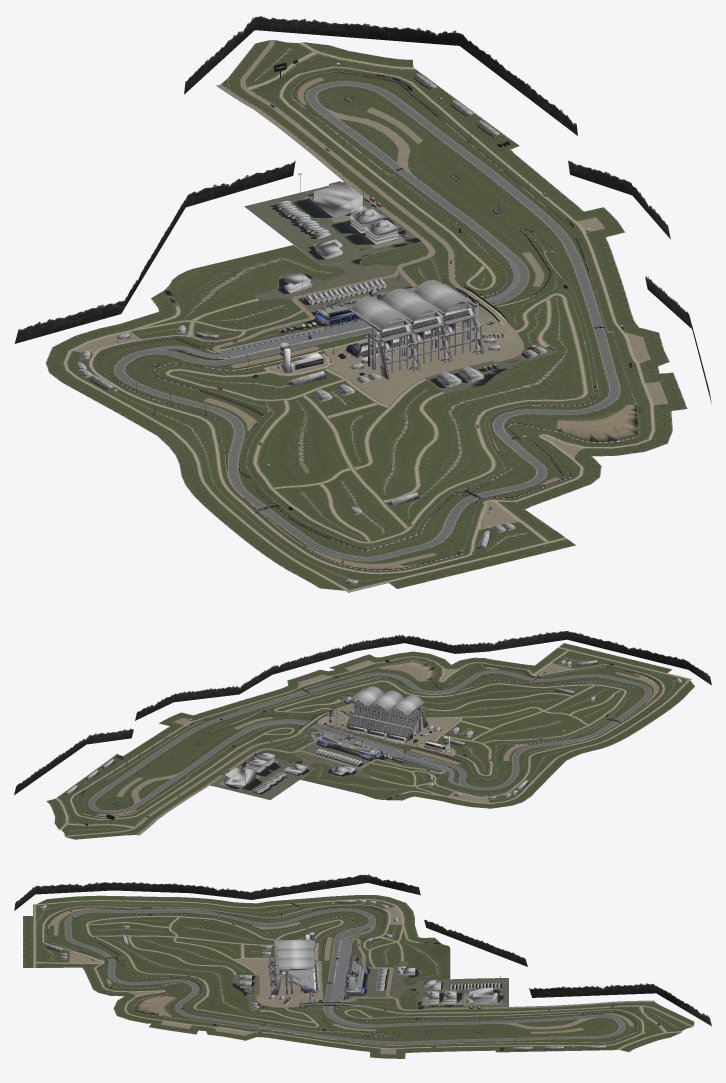
File: short-track.glb
3 renders of one model, top to bottom at view 1: azimuth 30°, elevation 25°; view 2: azimuth 150°, elevation 25°; view 3: azimuth 270°, elevation 25°, orthographic. The views are drawn at different scales.
Parts seen in each view (by area): view 1: grass6, grass7, grass0, grass3, grass1, grass2, grass_far, trees_tile, road_tile, grass5, buildings, track_tile (+29 smaller); view 2: grass6, trees_tile, grass7, grass0, grass3, grass2, grass1, buildings, grass_far, grass5, road_tile, track_tile (+28 smaller); view 3: grass6, trees_tile, grass7, grass2, grass3, grass1, grass0, grass_far, grass5, road_tile, track_tile, buildings (+29 smaller).
Part boxes in pixels (x1,y1,x2,y2): grass6: (349,130,625,303); grass7: (221,40,498,180); grass0: (98,245,367,399); grass3: (367,450,601,588); grass1: (45,329,341,465); grass2: (179,455,405,590); grass_far: (307,364,582,499); trees_tile: (14,16,711,403); road_tile: (213,40,524,405); grass5: (492,262,669,380); buildings: (277,280,507,379); track_tile: (164,182,558,393); grass6: (105,707,318,784); trees_tile: (14,631,711,795); grass7: (46,762,206,839); grass0: (300,735,489,803); grass3: (448,643,671,701); grass2: (532,674,694,751); grass1: (454,716,588,808); buildings: (298,686,451,759); grass_far: (368,682,569,739); grass5: (219,669,368,737); road_tile: (65,703,458,837); track_tile: (210,696,428,800); grass6: (333,989,520,1058); trees_tile: (14,874,711,1026); grass7: (493,1002,694,1051); grass2: (36,895,233,937); grass3: (23,916,160,996); grass1: (194,895,414,944); grass0: (279,918,450,985); grass_far: (132,936,275,1011); grass5: (198,983,360,1047); road_tile: (237,938,693,1029); track_tile: (232,942,508,1012); buildings: (268,932,368,1008).
Bounding box in the file's own units: 967 × 87.23 × 1471.
12 materials, 11 textured.
